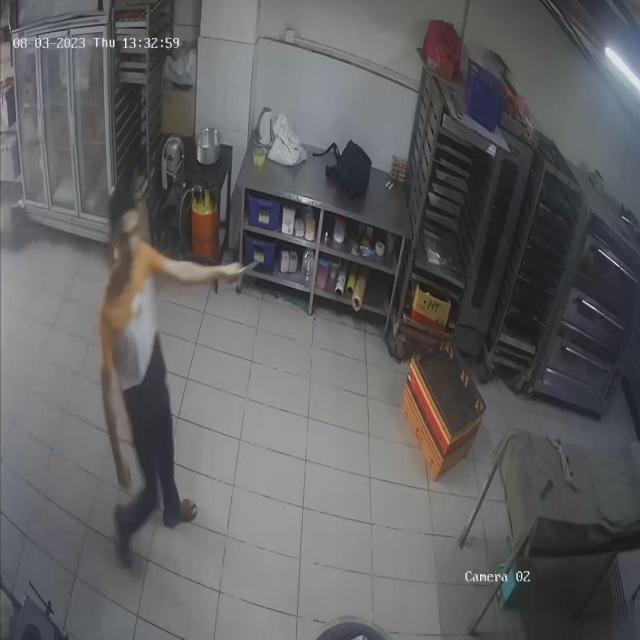Knife: (232, 238, 276, 300)
